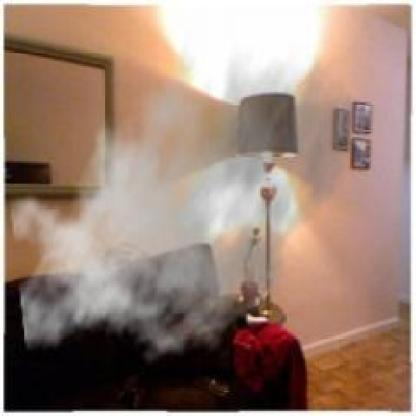Smoke: (8, 20, 358, 375)
